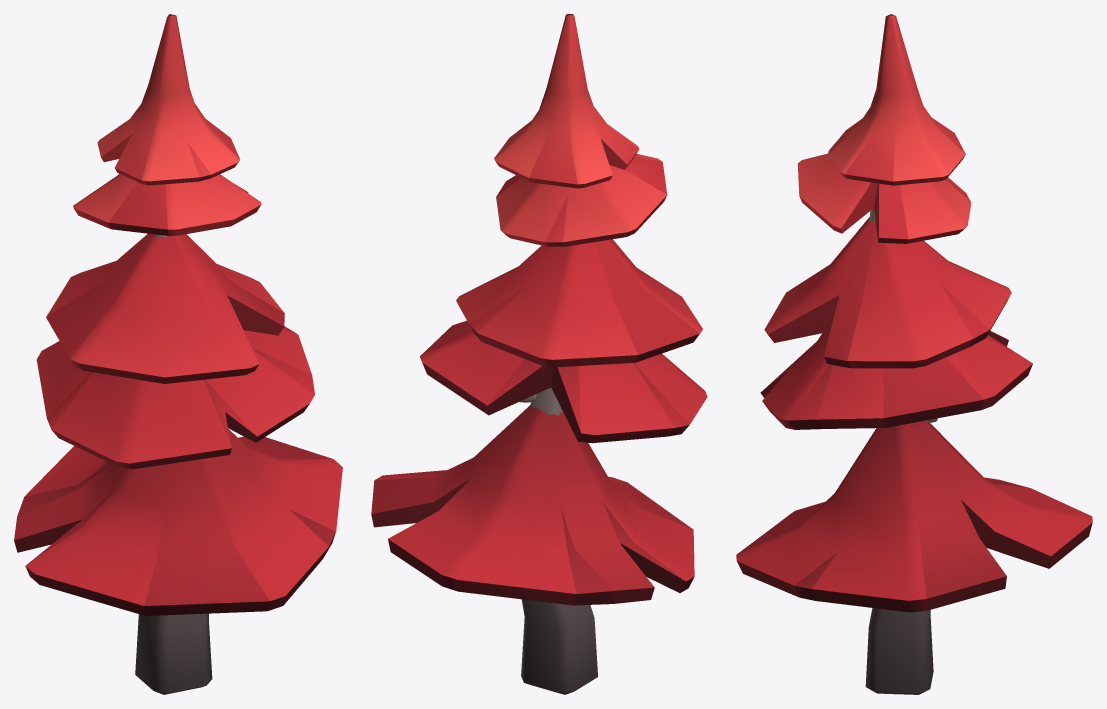
File: pine_tree_col3_4.fbx
3 renders of one model, left to right at view 1: azimuth 30°, elevation 25°; view 2: azimuth 150°, elevation 25°; view 3: azimuth 270°, elevation 25°, orthographic.
Parts seen in each view (by area): view 1: pine_tree_col3_4; view 2: pine_tree_col3_4; view 3: pine_tree_col3_4.
Boxes of the visible parts, x1,y1,x2,y2 form: pine_tree_col3_4: [14, 14, 342, 694]; pine_tree_col3_4: [371, 14, 707, 694]; pine_tree_col3_4: [736, 14, 1092, 694].
Bounding box in the file's own units: 528 × 1086 × 526.
Materials: 1 (1 with a texture image).
